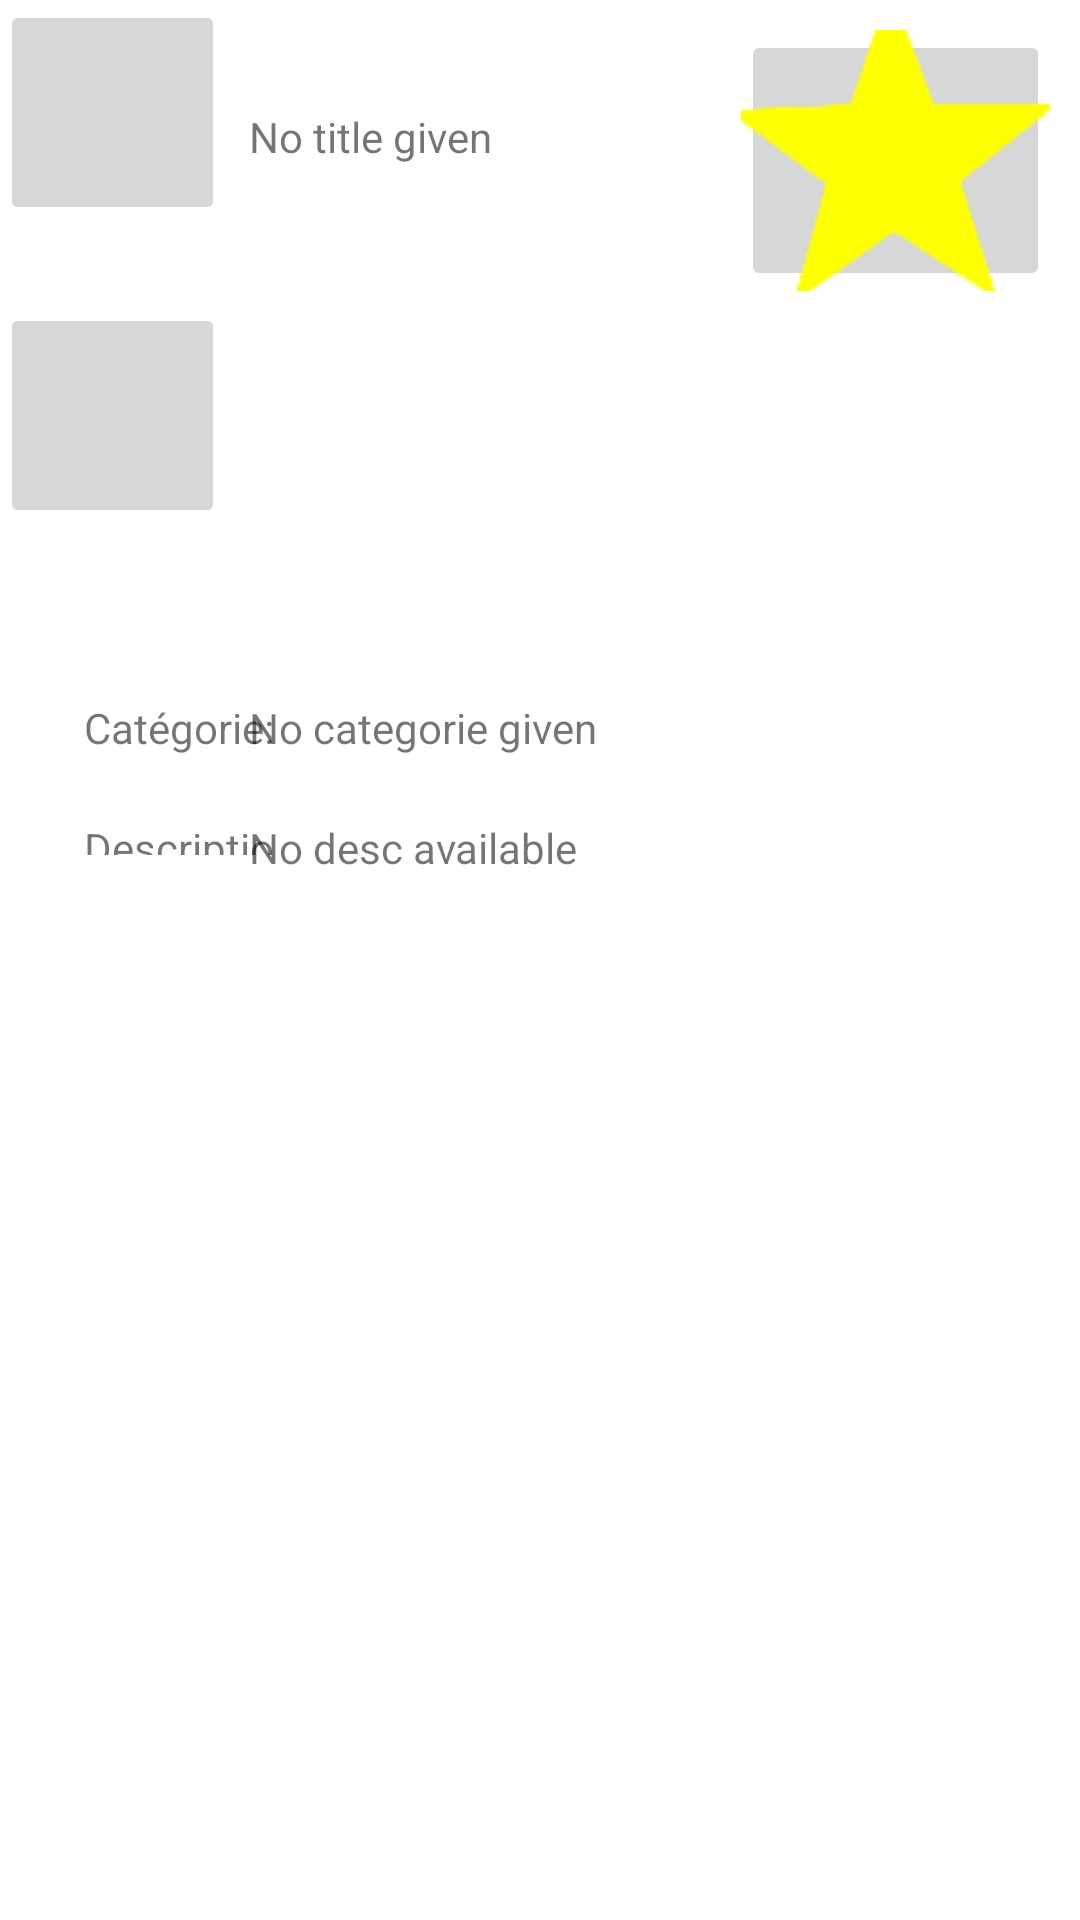

Where to tap for icons on this 1080×1920 app screen, as [x,y]:
fullfavorite: [895,160]
